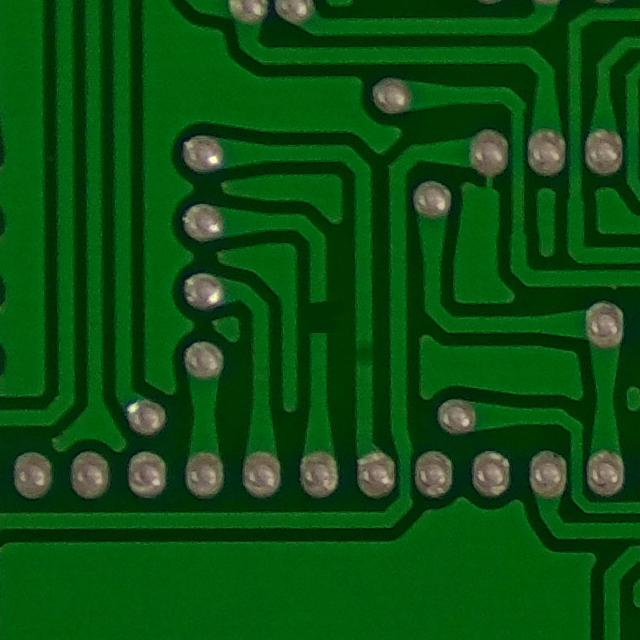open_circuit: (301, 291, 340, 350)
